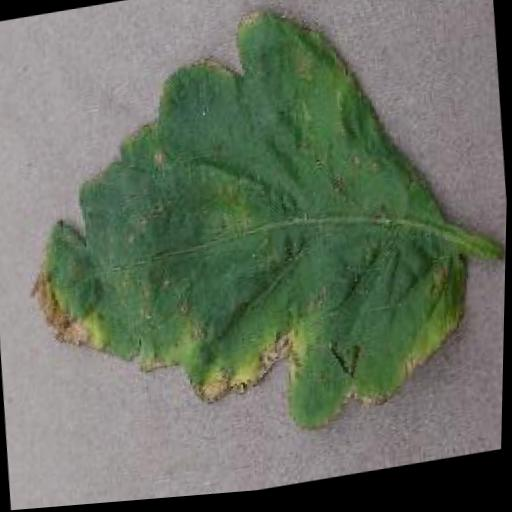Bacterial Spot: (2, 0, 489, 484)
